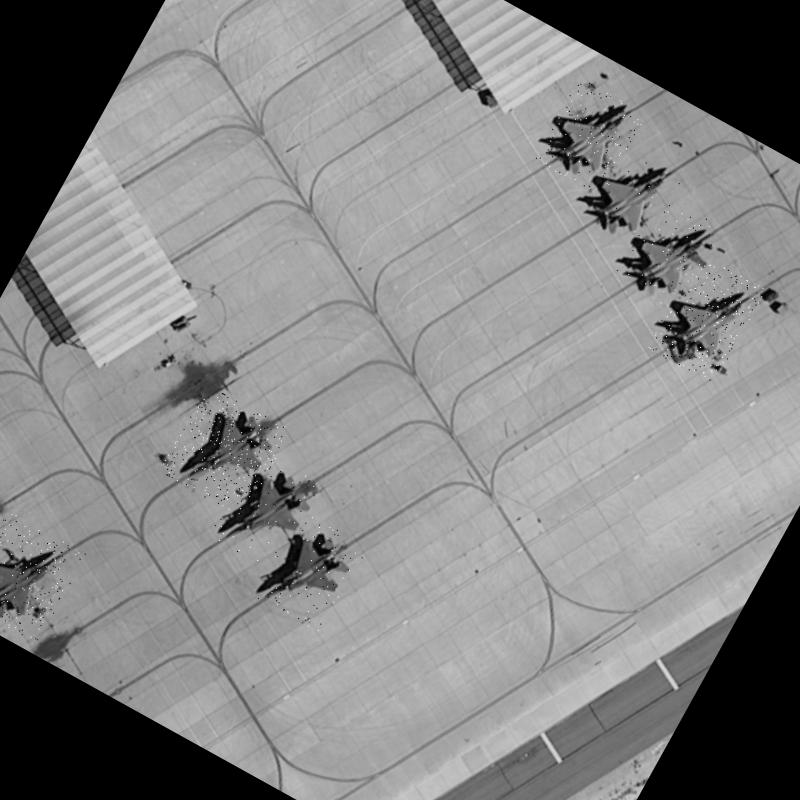A13: (158, 383, 290, 519), (644, 252, 765, 384), (203, 446, 324, 573), (252, 508, 368, 633), (532, 77, 648, 198), (572, 136, 686, 254), (611, 192, 722, 312), (0, 508, 86, 643)
